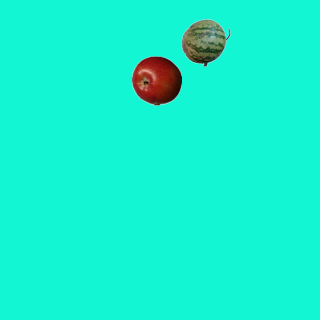Apple Braeburn: (131, 55, 181, 105)
Watermelon: (180, 17, 230, 67)
